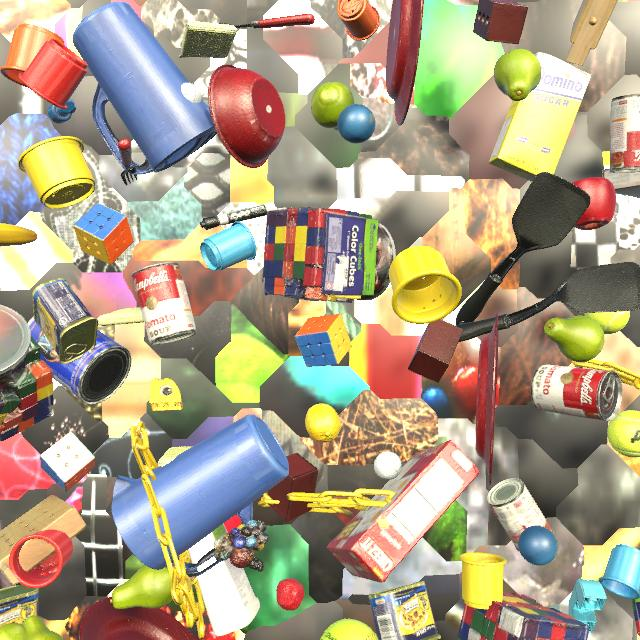ycb_002_master_chef_can: (28, 317, 131, 405)
ycb_003_cracker_box: (327, 440, 479, 583)
ycb_004_sugar_box: (488, 52, 591, 182)
ycb_005_tomato_soup_can: (131, 262, 196, 345), (530, 365, 623, 421), (487, 478, 553, 552), (609, 93, 640, 173)
ycb_008_pudding_box: (602, 168, 640, 198)
ycb_010_potted_meat_can: (32, 278, 98, 364), (368, 581, 441, 640), (0, 585, 39, 627)
ycb_011_banana: (0, 223, 37, 246)
ycb_012_strawberry: (276, 578, 304, 611)
ycb_013_apple: (572, 177, 616, 230)
ycb_014_lemon: (305, 403, 341, 442)
ycb_016_pear: (544, 316, 605, 362), (110, 565, 173, 609), (494, 49, 542, 101), (311, 82, 354, 131), (23, 615, 64, 640), (0, 623, 26, 640)
